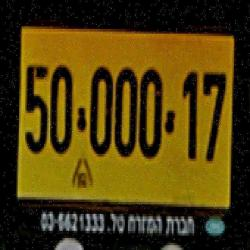LicensePlate: (13, 10, 239, 244)
